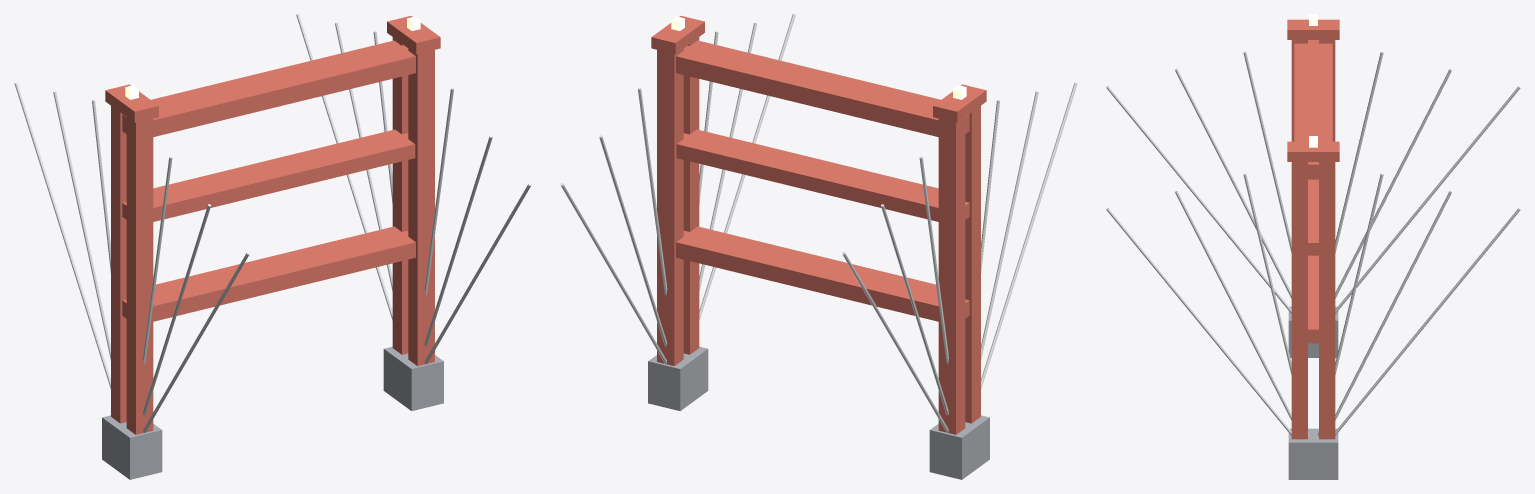
Rendered from suspension_bridge.glb.
The picture shows the model from 3 angles, left to right: view 1: azimuth 30°, elevation 25°; view 2: azimuth 150°, elevation 25°; view 3: azimuth 270°, elevation 25°; orthographic projection. The views are drawn at different scales.
Parts seen in each view (by area): view 1: CrossBeamTop, CrossBeamLow, CrossBeamMid, TowerColA_-10.5, TowerColA_10.5, TowerColB_-10.5, TowerColB_10.5, PierBase_10.5, PierBase_-10.5, Cable_-10.5_1.0_2, TowerCap_-10.5, TowerCap_10.5 (+10 smaller); view 2: CrossBeamTop, CrossBeamLow, CrossBeamMid, TowerColB_-10.5, TowerColB_10.5, TowerColA_-10.5, TowerColA_10.5, PierBase_10.5, PierBase_-10.5, Cable_-10.5_-1.0_2, TowerCap_-10.5, TowerCap_10.5 (+10 smaller); view 3: TowerColA_10.5, TowerColB_10.5, CrossBeamTop, PierBase_10.5, TowerCap_10.5, TowerCap_-10.5, Cable_10.5_1.0_2, Cable_10.5_-1.0_2, Cable_-10.5_1.0_2, Cable_-10.5_-1.0_2, CrossBeamLow, Cable_10.5_1.0_1 (+11 smaller).
Boxes of the visible parts, bbox=[...] form: CrossBeamTop: bbox=[122, 40, 415, 136]; CrossBeamLow: bbox=[122, 226, 415, 321]; CrossBeamMid: bbox=[122, 129, 415, 221]; TowerColA_-10.5: bbox=[126, 117, 153, 434]; TowerColA_10.5: bbox=[408, 48, 434, 365]; TowerColB_-10.5: bbox=[111, 106, 126, 423]; TowerColB_10.5: bbox=[392, 37, 408, 354]; PierBase_10.5: bbox=[383, 346, 443, 410]; PierBase_-10.5: bbox=[102, 415, 162, 479]; Cable_-10.5_1.0_2: bbox=[14, 82, 110, 389]; TowerCap_-10.5: bbox=[105, 84, 158, 122]; TowerCap_10.5: bbox=[387, 16, 440, 54]; CrossBeamTop: bbox=[676, 40, 969, 136]; CrossBeamLow: bbox=[676, 226, 969, 321]; CrossBeamMid: bbox=[676, 129, 969, 221]; TowerColB_-10.5: bbox=[938, 117, 965, 434]; TowerColB_10.5: bbox=[657, 48, 683, 365]; TowerColA_-10.5: bbox=[965, 106, 980, 423]; TowerColA_10.5: bbox=[683, 37, 699, 354]; PierBase_10.5: bbox=[648, 346, 708, 410]; PierBase_-10.5: bbox=[929, 415, 989, 479]; Cable_-10.5_-1.0_2: bbox=[981, 82, 1077, 389]; TowerCap_-10.5: bbox=[933, 84, 986, 122]; TowerCap_10.5: bbox=[651, 16, 704, 54]; TowerColA_10.5: bbox=[1291, 162, 1307, 439]; TowerColB_10.5: bbox=[1319, 162, 1335, 439]; CrossBeamTop: bbox=[1294, 40, 1332, 179]; PierBase_10.5: bbox=[1288, 428, 1338, 479]; TowerCap_10.5: bbox=[1287, 141, 1339, 161]; TowerCap_-10.5: bbox=[1287, 19, 1339, 39]; Cable_10.5_1.0_2: bbox=[1335, 208, 1520, 435]; Cable_10.5_-1.0_2: bbox=[1106, 208, 1291, 435]; Cable_-10.5_1.0_2: bbox=[1335, 86, 1520, 313]; Cable_-10.5_-1.0_2: bbox=[1106, 86, 1291, 313]; CrossBeamLow: bbox=[1308, 255, 1318, 343]; Cable_10.5_1.0_1: bbox=[1335, 191, 1451, 420].
Size of the model in its own units: 23.4 by 26.93 by 30.18.
